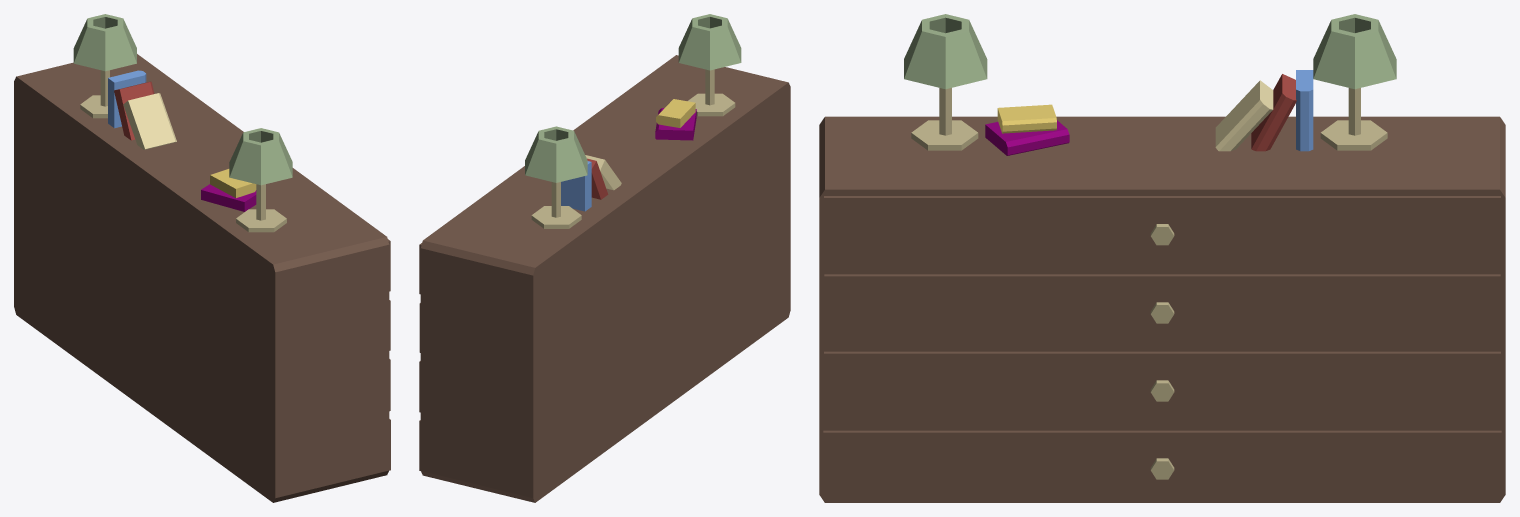
The model's file is geo_setofdraws_01.fbx.
3 renders of one model, left to right at view 1: azimuth 30°, elevation 25°; view 2: azimuth 150°, elevation 25°; view 3: azimuth 270°, elevation 25°, orthographic. The views are drawn at different scales.
Visible parts, largest first — view 1: geo_bedsidetable_01, geo_lampShade_01 (×2), geo_book_05, geo_lampbase_01 (×2), geo_book_03, geo_book_04, geo_book_01, geo_book_02; view 2: geo_bedsidetable_01, geo_lampShade_01 (×2), geo_lampbase_01 (×2), geo_book_03, geo_book_02, geo_book_01, geo_book_04, geo_book_05; view 3: geo_bedsidetable_01, geo_lampShade_01 (×2), geo_lampbase_01 (×2), geo_book_05, geo_book_04, geo_book_01, geo_book_02, geo_book_03.
Boxes of the visible parts, <box> form: geo_bedsidetable_01: <box>14,54,390,502</box>; geo_lampShade_01 (×2): <box>73,14,292,185</box>; geo_book_05: <box>123,93,176,149</box>; geo_lampbase_01 (×2): <box>80,95,286,232</box>; geo_book_03: <box>108,70,146,128</box>; geo_book_04: <box>114,81,154,140</box>; geo_book_01: <box>201,184,256,211</box>; geo_book_02: <box>210,169,256,197</box>; geo_bedsidetable_01: <box>419,55,790,502</box>; geo_lampShade_01 (×2): <box>525,14,741,182</box>; geo_lampbase_01 (×2): <box>531,93,735,228</box>; geo_book_03: <box>561,161,591,211</box>; geo_book_02: <box>656,99,695,127</box>; geo_book_01: <box>655,108,696,140</box>; geo_book_04: <box>587,158,608,199</box>; geo_book_05: <box>585,155,621,190</box>; geo_bedsidetable_01: <box>819,116,1505,502</box>; geo_lampShade_01 (×2): <box>904,14,1396,89</box>; geo_lampbase_01 (×2): <box>911,120,1387,150</box>; geo_book_05: <box>1215,80,1273,151</box>; geo_book_04: <box>1251,74,1296,151</box>; geo_book_01: <box>985,120,1069,155</box>; geo_book_02: <box>997,104,1056,133</box>; geo_book_03: <box>1296,70,1313,151</box>.
Size of the model in its own units: 42.79 by 109 by 159.
